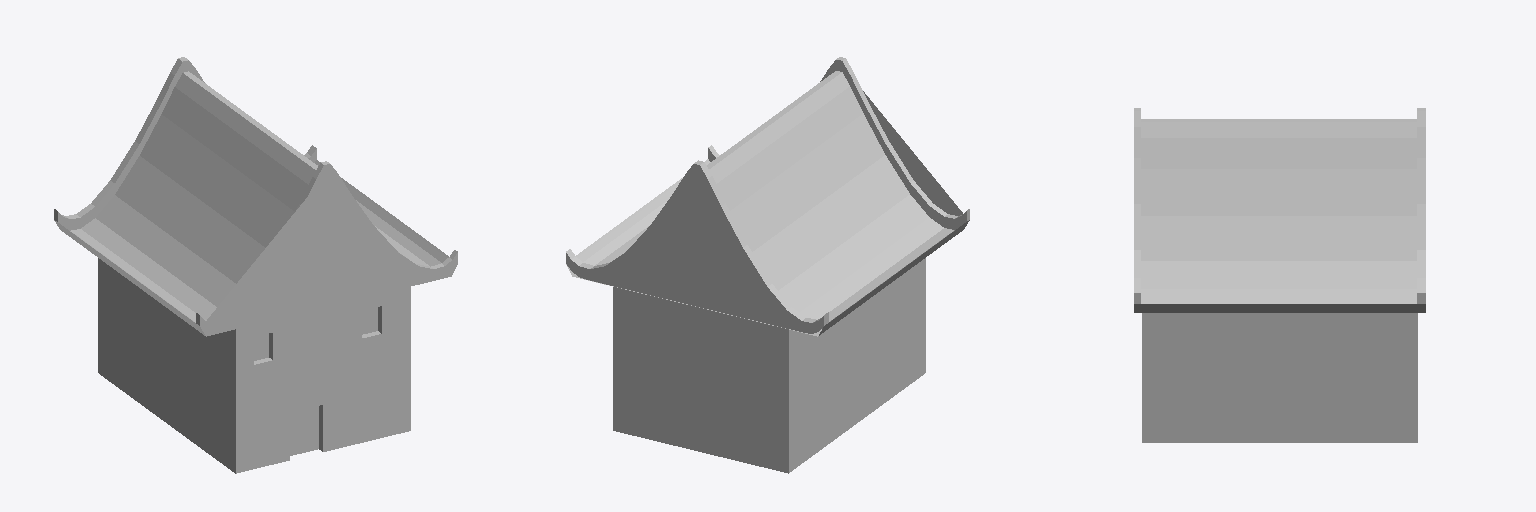
Rendered from haus1.obj.
3 renders of one model, left to right at view 1: azimuth 30°, elevation 25°; view 2: azimuth 150°, elevation 25°; view 3: azimuth 270°, elevation 25°, orthographic.
Parts seen in each view (by area): view 1: Arc002, Box001; view 2: Arc002, Box001; view 3: Arc002, Box001.
Part boxes in pixels (bbox=[...]): Arc002: bbox=[54, 57, 457, 336]; Box001: bbox=[98, 258, 410, 473]; Arc002: bbox=[566, 57, 969, 336]; Box001: bbox=[613, 258, 925, 473]; Arc002: bbox=[1134, 108, 1425, 312]; Box001: bbox=[1142, 313, 1417, 442].
Bounding box in the file's own units: 660 × 709 × 646.